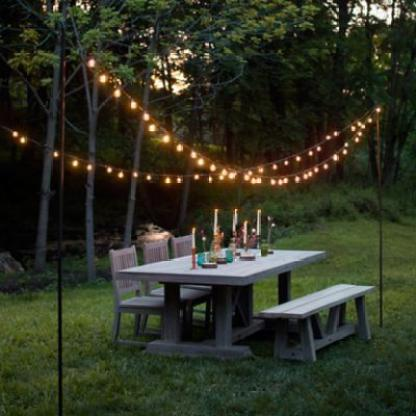table: (110, 240, 330, 366)
